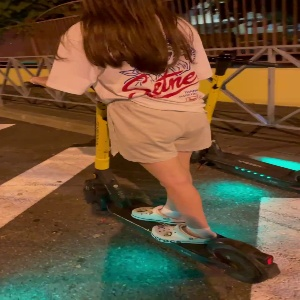human on a scooter: (23, 1, 282, 285)
